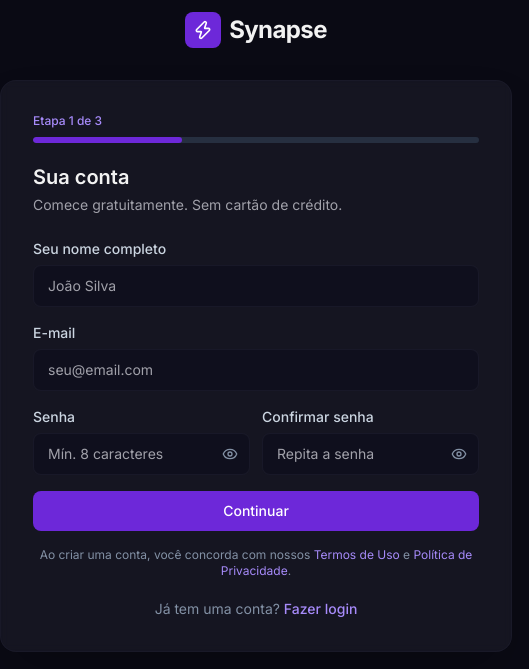
Scenario: Cadastro em 3 etapas › não avança da etapa 2 sem nome da empresa e segmento
Type "Maria Souza" into the field with placeholder "João Silva".
click(256, 286); type("Maria Souza")  # box [33,265,479,307]
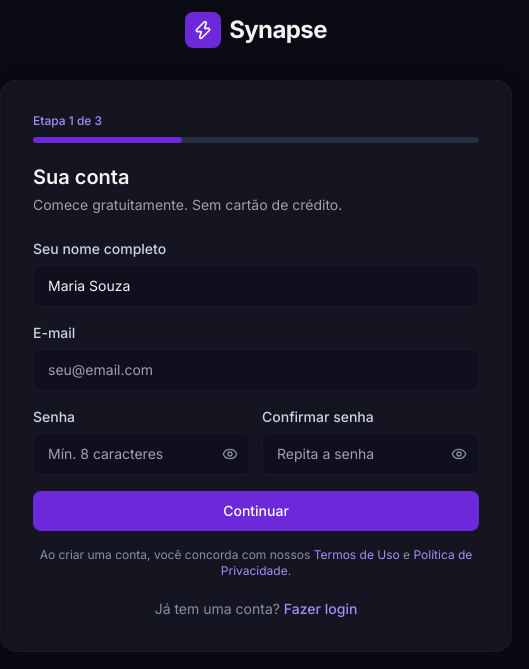
Type "maria@padaria.com" into the field with placeholder "seu@email.com".
click(256, 370); type("maria@padaria.com")  # box [33,349,479,391]
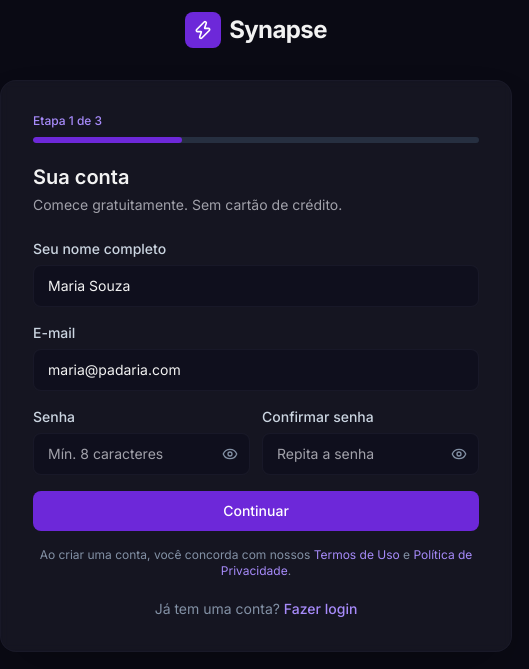
Type "Senha1234" into the password field with placeholder "Mín. 8 caracteres".
click(142, 454); type("Senha1234")  # box [33,433,250,475]
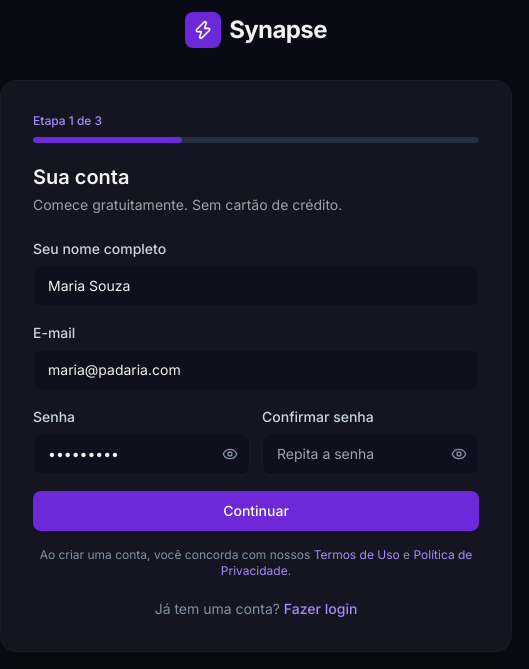
Type "Senha1234" into the password field with placeholder "Repita a senha".
click(370, 454); type("Senha1234")  # box [262,433,479,475]
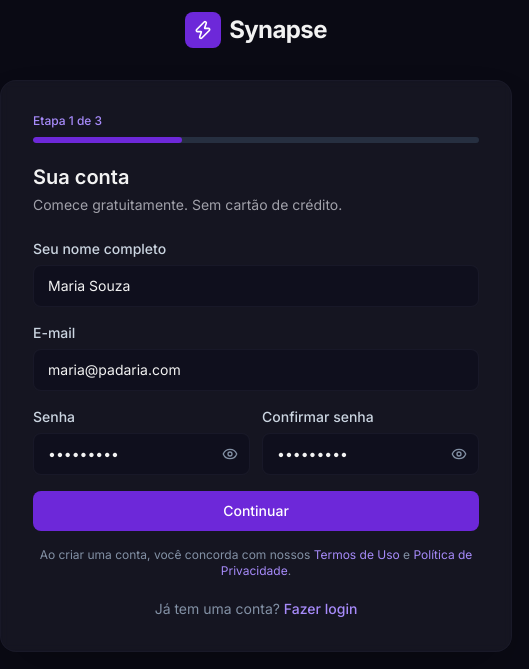
Click the button "Continuar".
click(256, 511)  # box [33,491,479,531]
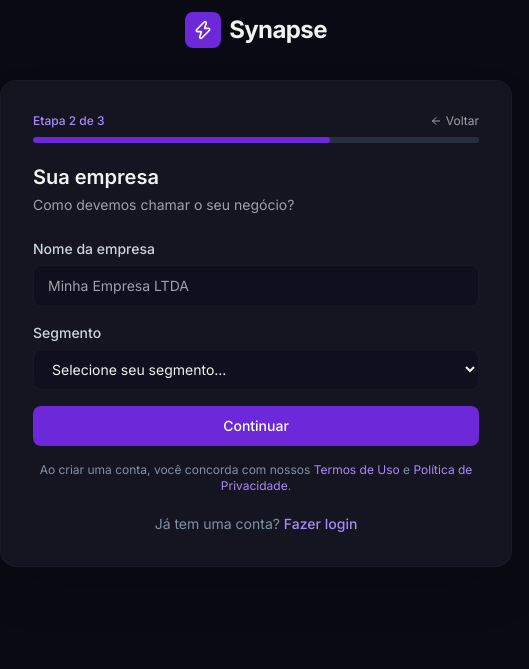
Now the text "Etapa 2 de 3" is shown, box [33,113,105,129]
Click the button "Continuar".
click(256, 426)  # box [33,406,479,446]
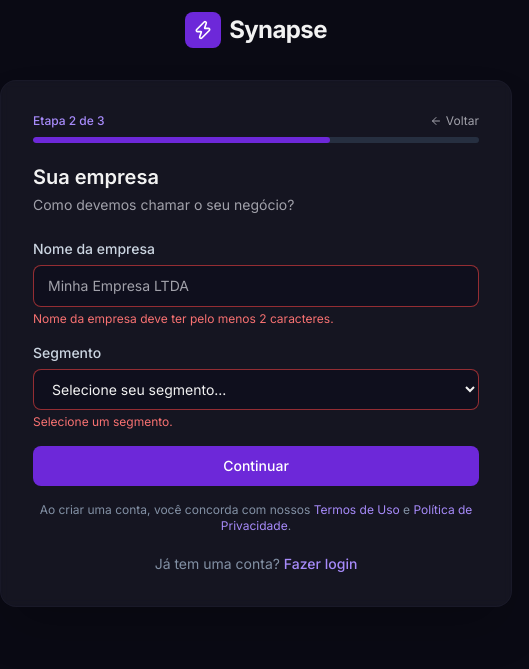
Now the text "Etapa 2 de 3" is shown, box [33,113,105,129]
Now the text "Selecione um segmento." is shown, box [33,414,173,429]
